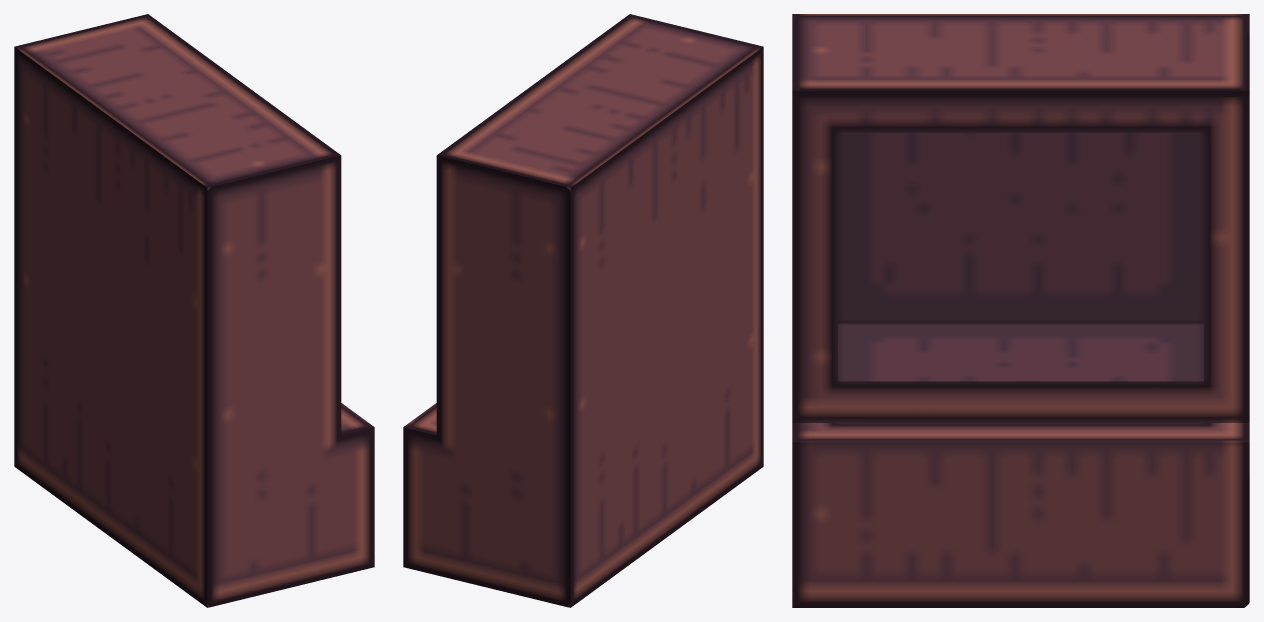
The model's file is Wardrobe.fbx.
3 renders of one model, left to right at view 1: azimuth 30°, elevation 25°; view 2: azimuth 150°, elevation 25°; view 3: azimuth 270°, elevation 25°, orthographic. The views are drawn at different scales.
Visible parts, largest first — view 1: Wardrobe; view 2: Wardrobe; view 3: Wardrobe.
Boxes of the visible parts, x1=… form: Wardrobe: x1=14, y1=14, x2=374, y2=607; Wardrobe: x1=403, y1=14, x2=763, y2=607; Wardrobe: x1=792, y1=14, x2=1249, y2=607.
Bounding box in the file's own units: 125 × 300 × 250.
